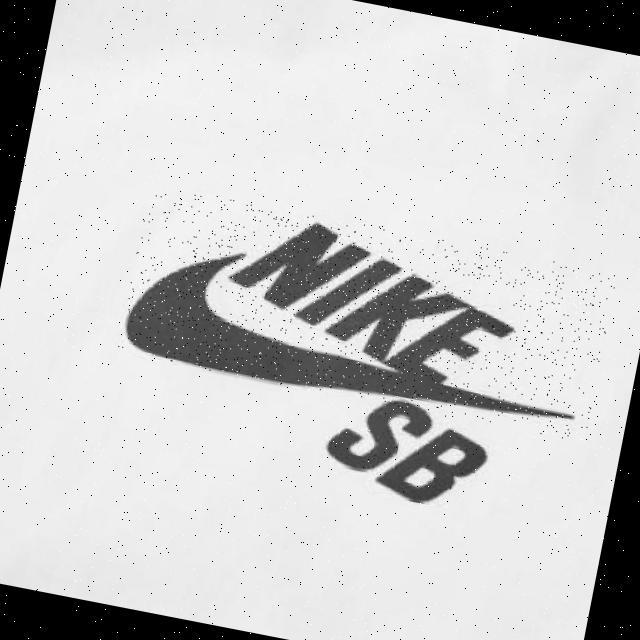Nike: (116, 183, 617, 445)
